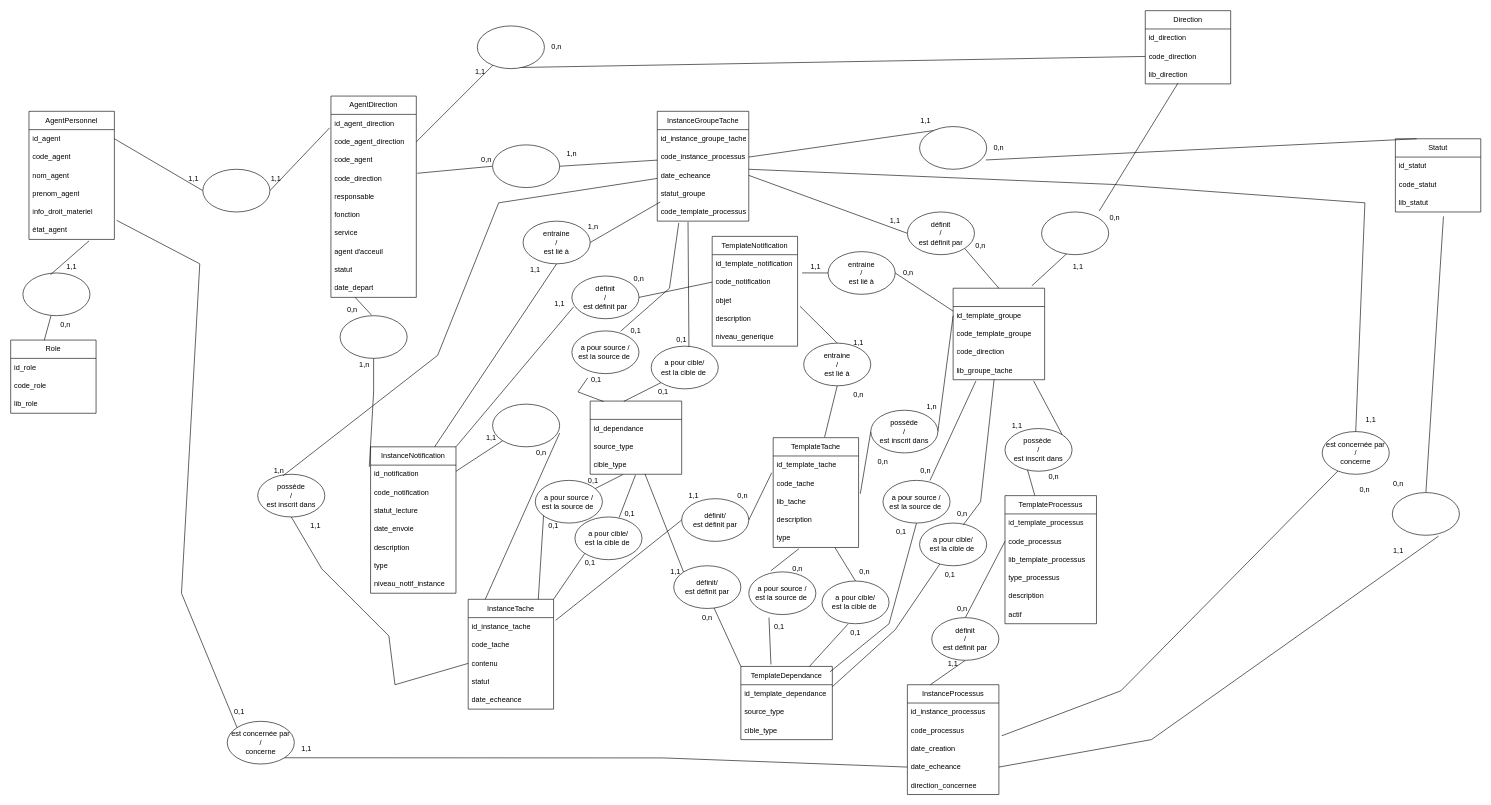
This 1491x805 diagram has some shape labels left out. Here are the shapes that lost their labels. From the top down, the box of each, then its label:
(477, 25, 544, 69): est de la direction / a dans sa direction
(492, 144, 560, 188): doit faire / est assignée à
(919, 126, 987, 169): est dans le statut / a pour tache
(202, 169, 270, 212): a pour direction / a pour info personnel
(1041, 211, 1109, 255): définit pour / inclus
(22, 272, 90, 316): possède / est posséder par
(339, 315, 407, 358): reçoit / est reçu par
(953, 288, 1045, 380): TemplateGroupeTache
(492, 404, 560, 447): envoie / est envoyé par
(590, 400, 682, 474): InstanceDependance
(1392, 492, 1459, 535): a pour statut / est le statut de
